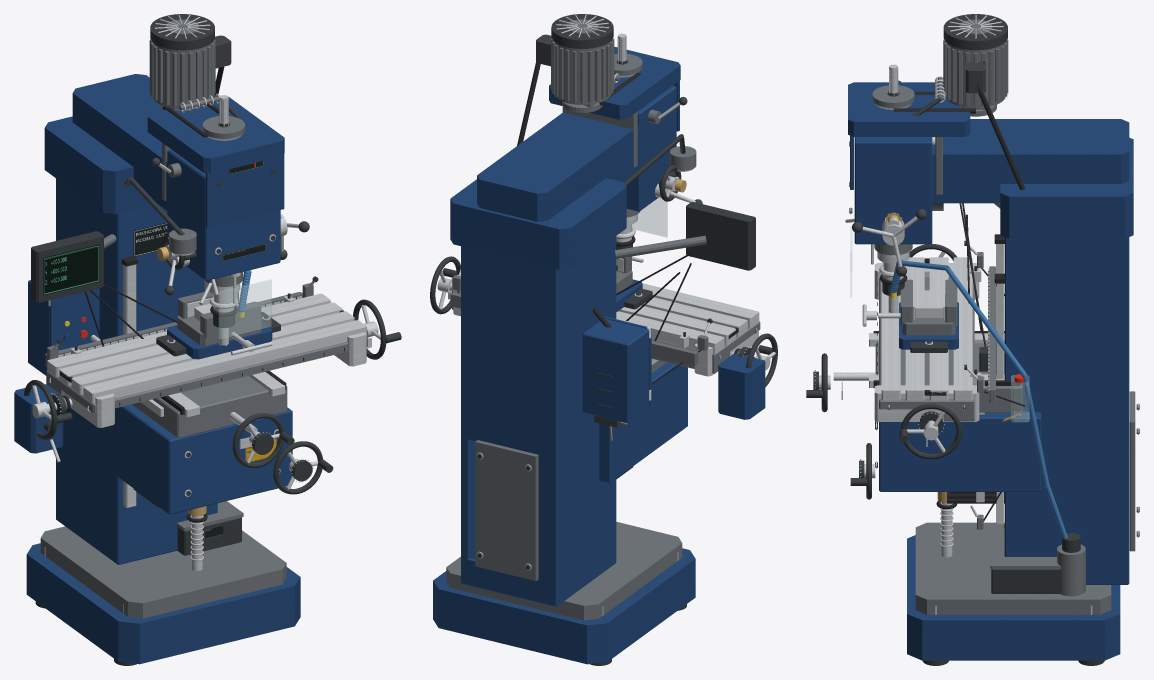
The model's file is fresadora-08-1.glb.
The picture shows the model from 3 angles, left to right: view 1: azimuth 30°, elevation 25°; view 2: azimuth 150°, elevation 25°; view 3: azimuth 270°, elevation 25°; orthographic projection. The views are drawn at different scales.
Parts seen in each view (by area): view 1: coluna__5, base__4, joelho__1, refrigeracao__8, mesa__3, cabecote__1, cabecote__3, coluna__4, tampa_transmissao__1, carro_y__3, tampa_cabecote_frontal__1, motor__2 (+28 smaller); view 2: coluna__5, base__4, cabecote__3, coluna__4, porta_coluna__2, refrigeracao__8, painel_eletrico__16, joelho__1, mesa__3, dro__1, motor__2, cabecote__1 (+13 smaller); view 3: coluna__5, cabecote__3, base__4, joelho__1, refrigeracao__8, cabecote__1, coluna__4, mesa__3, tampa_transmissao__1, motor__2, mesa__4, refrigeracao__4 (+23 smaller).
Boxes of the visible parts, bbox=[...] form: coluna__5: bbox=[56, 178, 217, 564]; base__4: bbox=[26, 543, 300, 664]; joelho__1: bbox=[88, 404, 292, 514]; refrigeracao__8: bbox=[40, 526, 286, 618]; mesa__3: bbox=[47, 293, 366, 403]; cabecote__1: bbox=[167, 149, 280, 280]; cabecote__3: bbox=[72, 74, 167, 210]; coluna__4: bbox=[44, 116, 156, 213]; tampa_transmissao__1: bbox=[147, 97, 284, 173]; carro_y__3: bbox=[132, 376, 287, 438]; tampa_cabecote_frontal__1: bbox=[205, 152, 284, 227]; motor__2: bbox=[149, 39, 215, 110]; coluna__5: bbox=[461, 236, 616, 606]; base__4: bbox=[433, 548, 695, 664]; cabecote__3: bbox=[477, 112, 638, 221]; coluna__4: bbox=[450, 178, 626, 270]; porta_coluna__2: bbox=[475, 440, 538, 580]; refrigeracao__8: bbox=[446, 522, 682, 620]; painel_eletrico__16: bbox=[582, 318, 649, 423]; joelho__1: bbox=[599, 362, 687, 483]; mesa__3: bbox=[616, 283, 759, 353]; dro__1: bbox=[686, 202, 756, 331]; motor__2: bbox=[551, 38, 614, 108]; cabecote__1: bbox=[626, 85, 676, 211]; coluna__5: bbox=[1004, 237, 1129, 584]; cabecote__3: bbox=[932, 119, 1129, 203]; base__4: bbox=[907, 535, 1120, 660]; joelho__1: bbox=[879, 412, 1041, 491]; refrigeracao__8: bbox=[915, 522, 1111, 614]; cabecote__1: bbox=[854, 137, 932, 244]; coluna__4: bbox=[1000, 137, 1133, 238]; mesa__3: bbox=[881, 257, 972, 400]; tampa_transmissao__1: bbox=[848, 82, 970, 136]; motor__2: bbox=[943, 39, 1008, 109]; mesa__4: bbox=[879, 277, 974, 421]; refrigeracao__4: bbox=[890, 259, 1067, 538].
Bounding box in the file's own units: 1.82 × 2.97 × 1.5.
33 materials, 18 textured.
